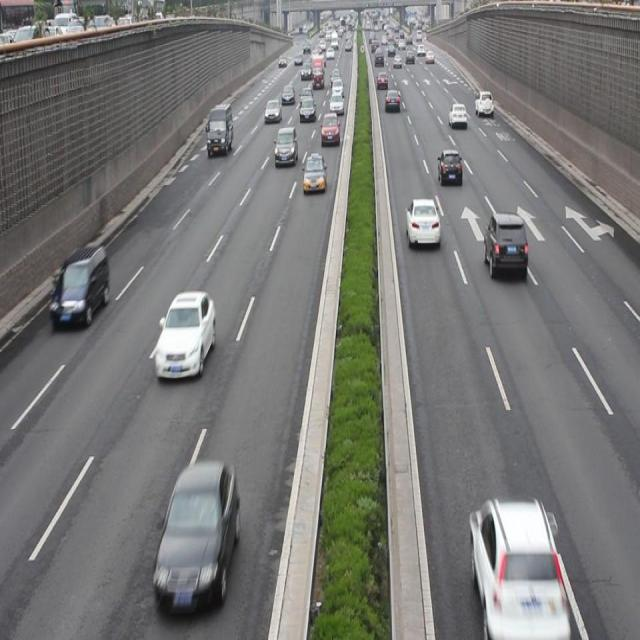car: (468, 500, 569, 626), (153, 462, 240, 608), (154, 292, 216, 379), (49, 246, 109, 325), (482, 210, 527, 278), (406, 195, 440, 249), (437, 148, 462, 187), (302, 154, 326, 192), (320, 112, 339, 145), (448, 101, 467, 129)
truck: (206, 103, 233, 155), (274, 126, 298, 164)
